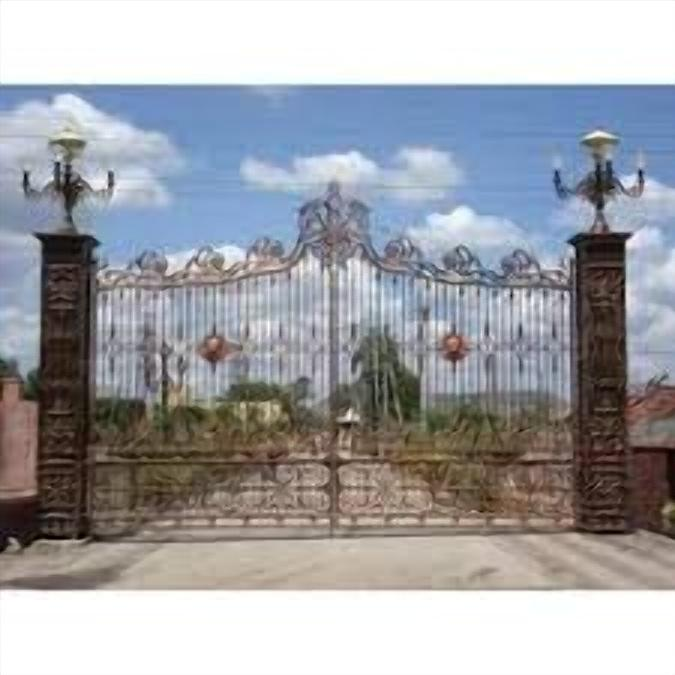Gate: (87, 178, 579, 539)
